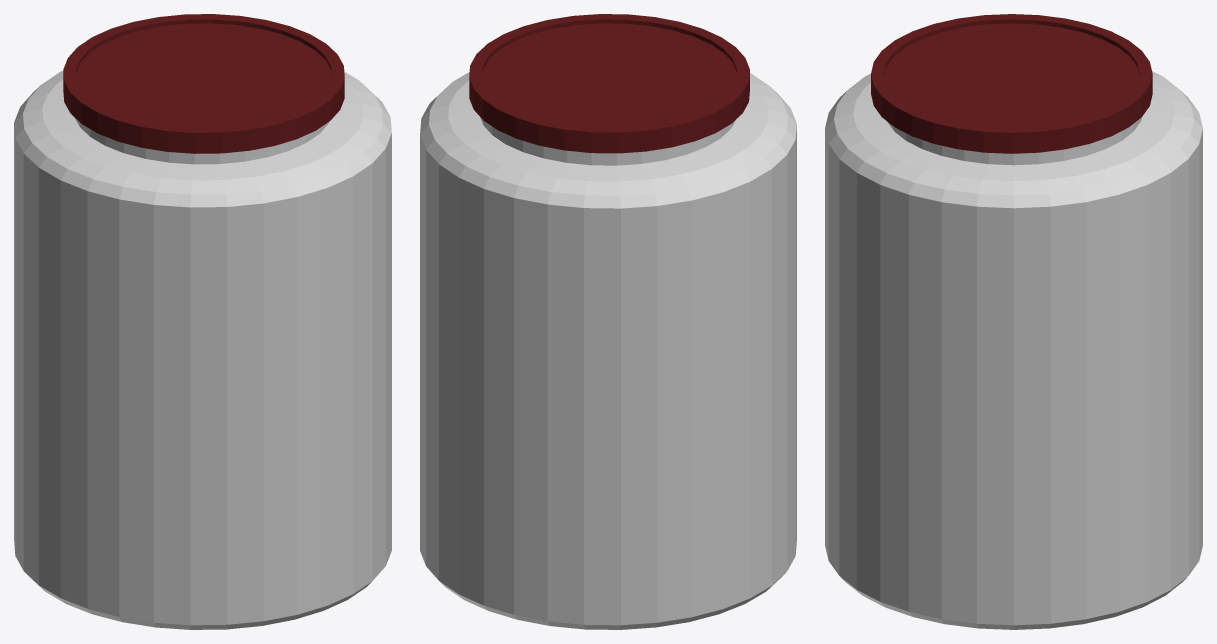
The model's file is Jar2.fbx.
3 renders of one model, left to right at view 1: azimuth 30°, elevation 25°; view 2: azimuth 150°, elevation 25°; view 3: azimuth 270°, elevation 25°, orthographic.
Visible parts, largest first — view 1: Circle, Circle.001; view 2: Circle, Circle.001; view 3: Circle, Circle.001.
Part boxes in pixels (<box>): Circle: <box>14,71,391,629</box>; Circle.001: <box>63,14,344,153</box>; Circle: <box>420,72,796,629</box>; Circle.001: <box>469,14,749,153</box>; Circle: <box>825,71,1202,629</box>; Circle.001: <box>871,14,1152,153</box>.
Size of the model in its own units: 224 by 317 by 224.
